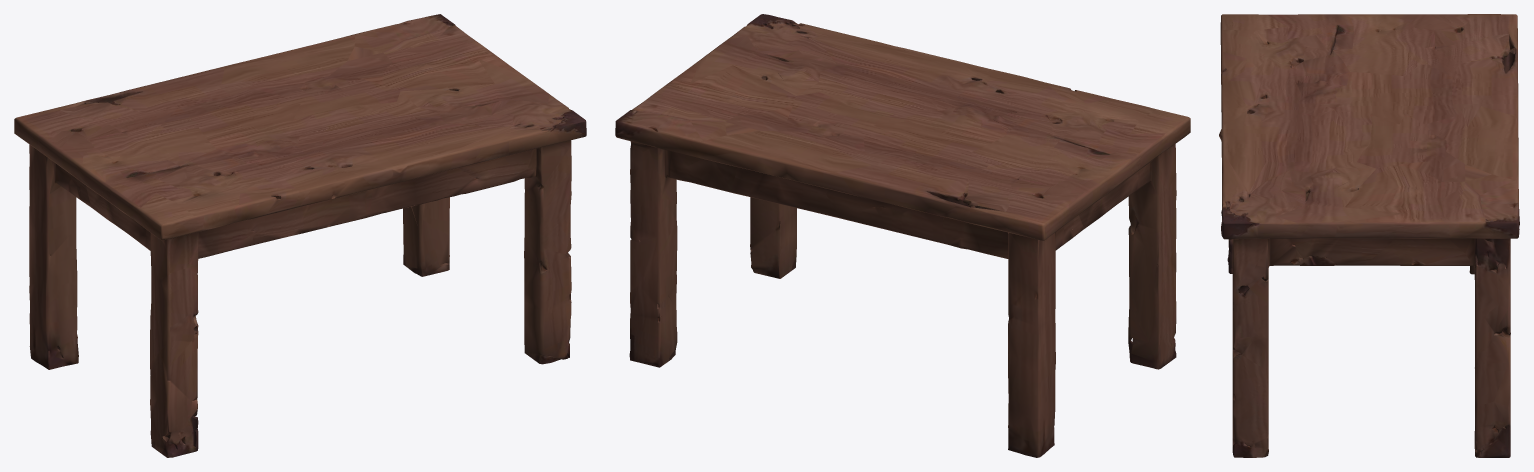
The model's file is table_wood_obedennyy_idle.glb.
The picture shows the model from 3 angles, left to right: view 1: azimuth 30°, elevation 25°; view 2: azimuth 150°, elevation 25°; view 3: azimuth 270°, elevation 25°; orthographic projection.
Visible parts, largest first — view 1: tripo_node_314b2f89-3e7d-4627-b84c-1b8d4845f2b6; view 2: tripo_node_314b2f89-3e7d-4627-b84c-1b8d4845f2b6; view 3: tripo_node_314b2f89-3e7d-4627-b84c-1b8d4845f2b6.
Part boxes in pixels (x1,y1,x2,y2): tripo_node_314b2f89-3e7d-4627-b84c-1b8d4845f2b6: (14,14,586,457); tripo_node_314b2f89-3e7d-4627-b84c-1b8d4845f2b6: (615,14,1190,457); tripo_node_314b2f89-3e7d-4627-b84c-1b8d4845f2b6: (1219,14,1519,457).
Size of the model in its own units: 1.39 by 0.75 by 0.8412.
1 material, 1 textured.
